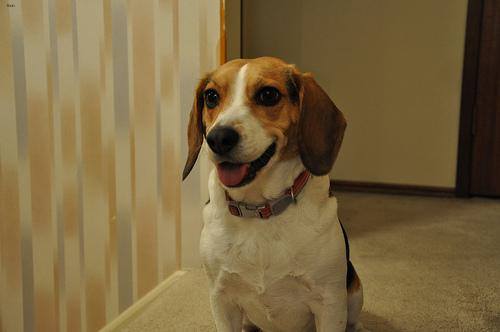dog-beagle: (180, 56, 345, 179)
